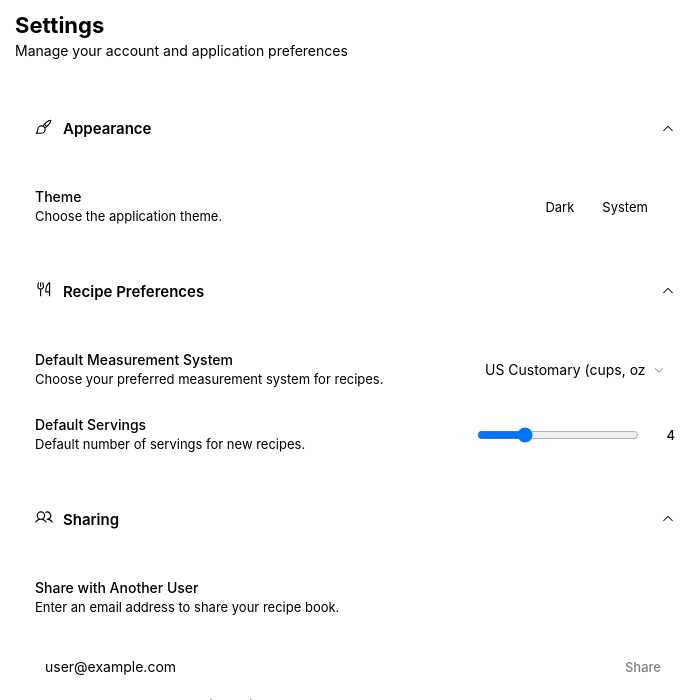
Test: SharingSection (within SettingsPage) › clears error messages when user starts typing again
Type "bad" into the field with placeholder "user@example.com" at (319, 667), box [35,652,603,681]
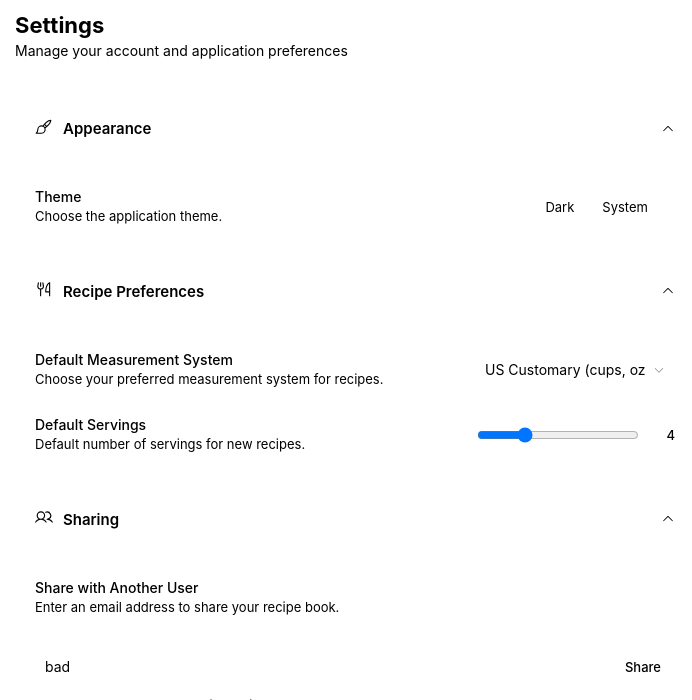
Click the button "Share" at (643, 667), box [611,652,675,681]
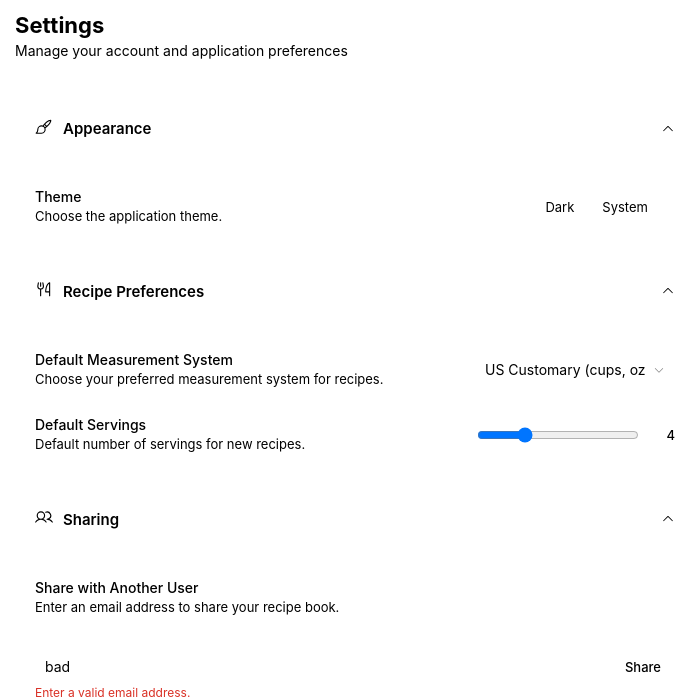
expect the text "Enter a valid email address." is shown: met, box [35,685,190,699]
Replace the text in the field with placeholder "user@example.com" with "b" at (319, 667), box [35,652,603,681]
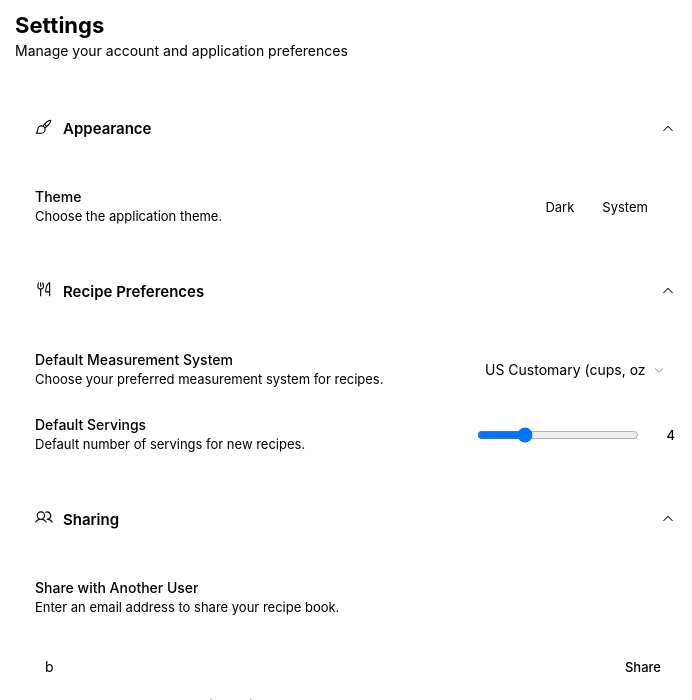
expect the text "Enter a valid email address." is gone: met
